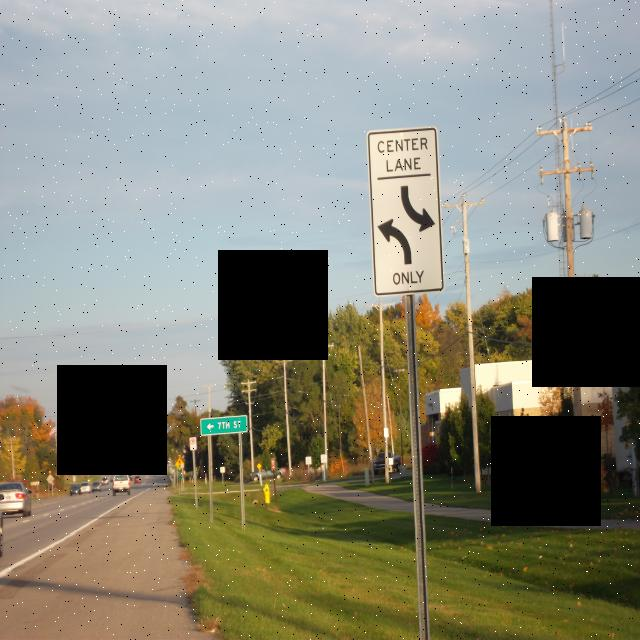regulatory: (366, 125, 446, 292), (189, 436, 198, 451), (320, 454, 328, 464), (304, 456, 312, 465)
warning: (174, 456, 186, 474), (256, 462, 262, 470)
